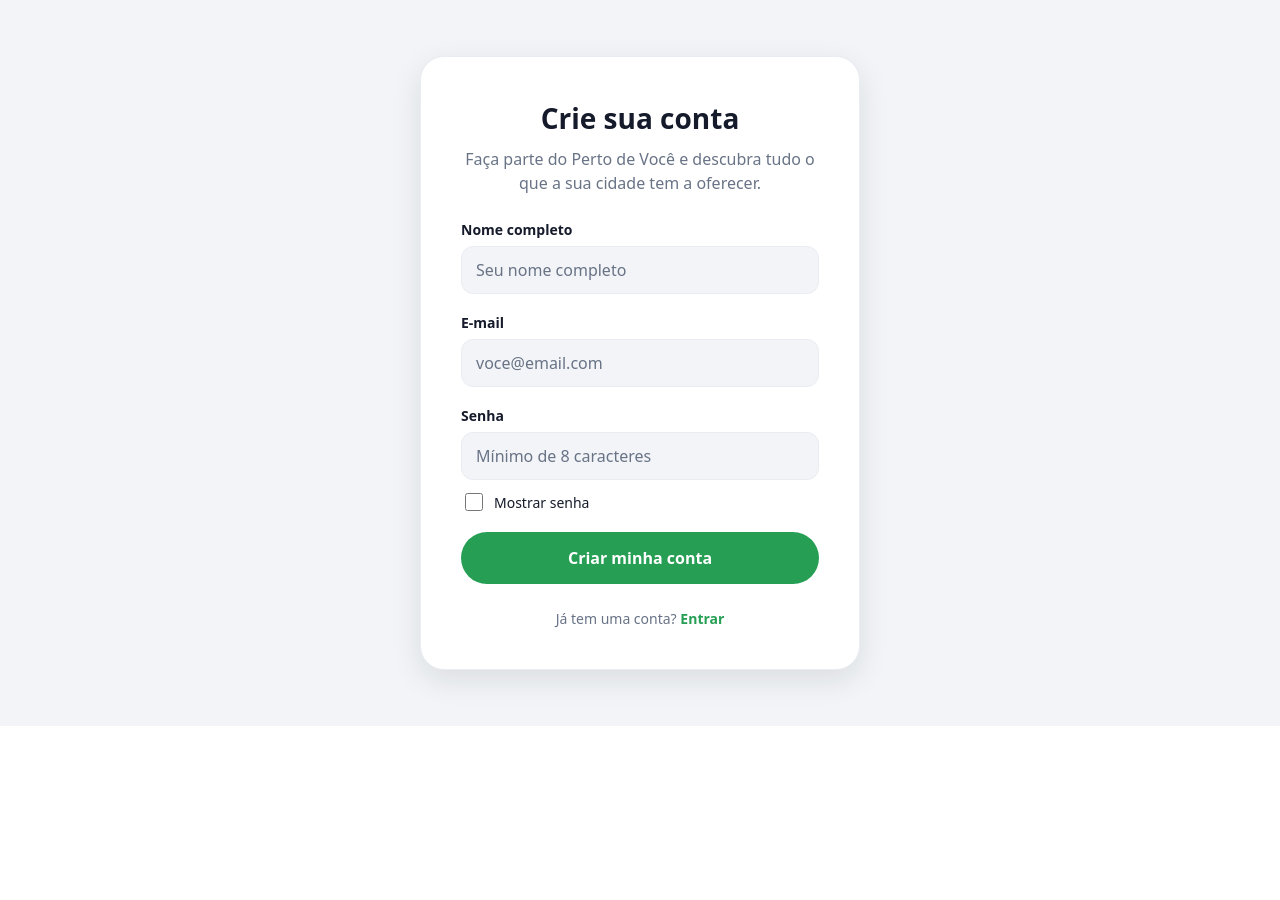
Tela de cadastrar › avisa quando o e-mail já tem conta
Type "Ana Exemplo" into the field labelled "Nome completo" at x=640, y=270, box [461, 246, 819, 294]
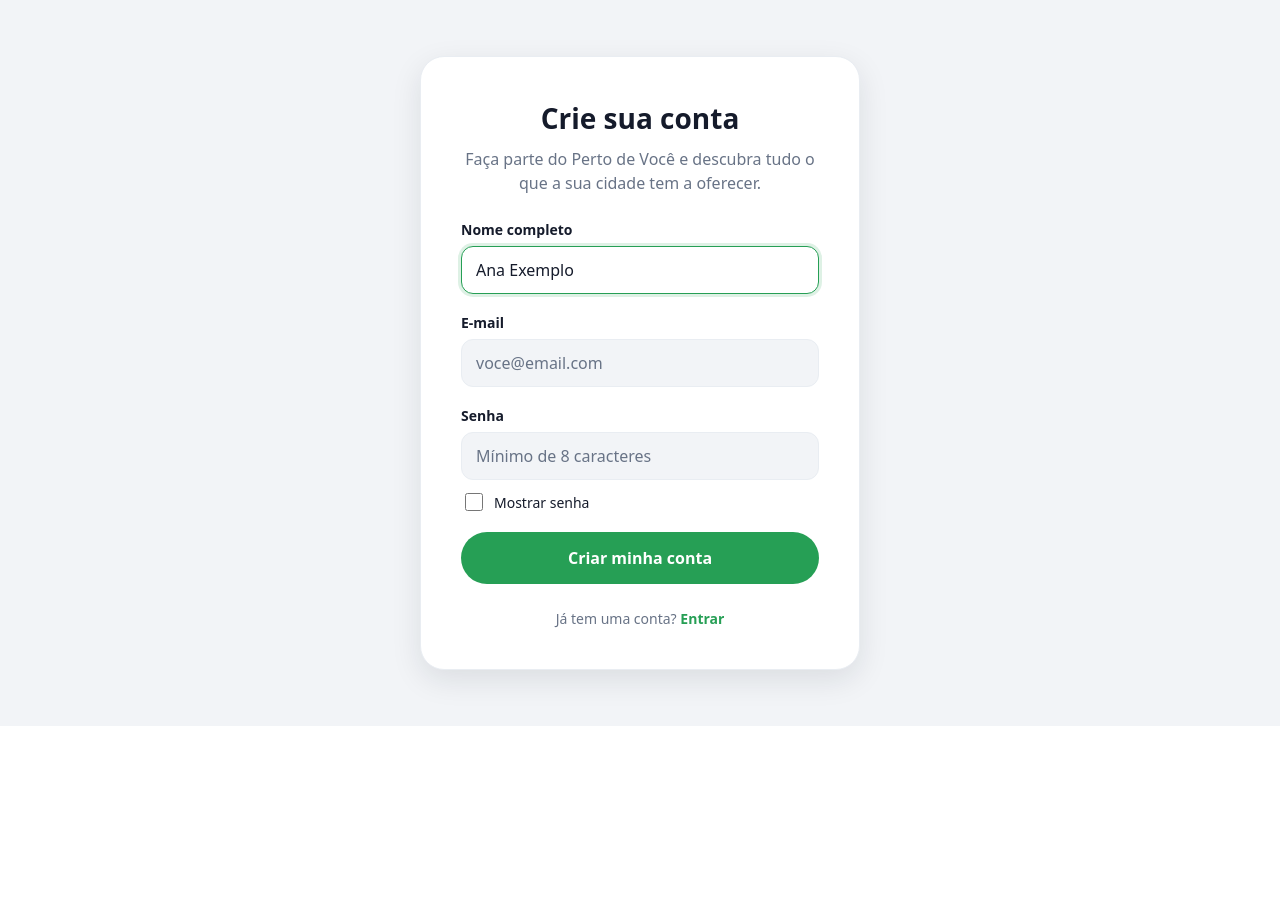
Type "ana@example.com" into the field labelled "E-mail" at x=640, y=363, box [461, 339, 819, 387]
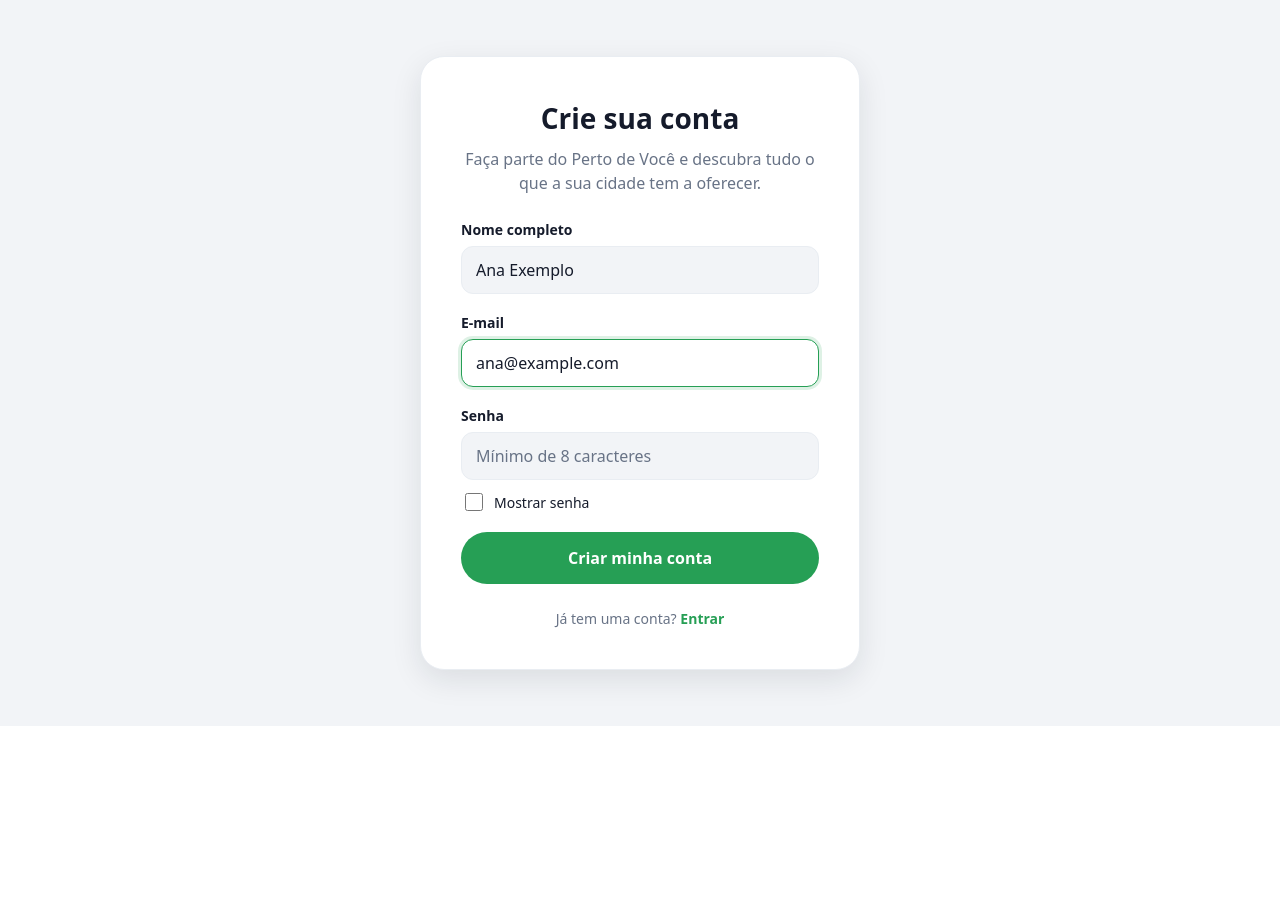
Type "senha-forte" into the password field labelled "Senha" at x=640, y=456, box [461, 432, 819, 480]
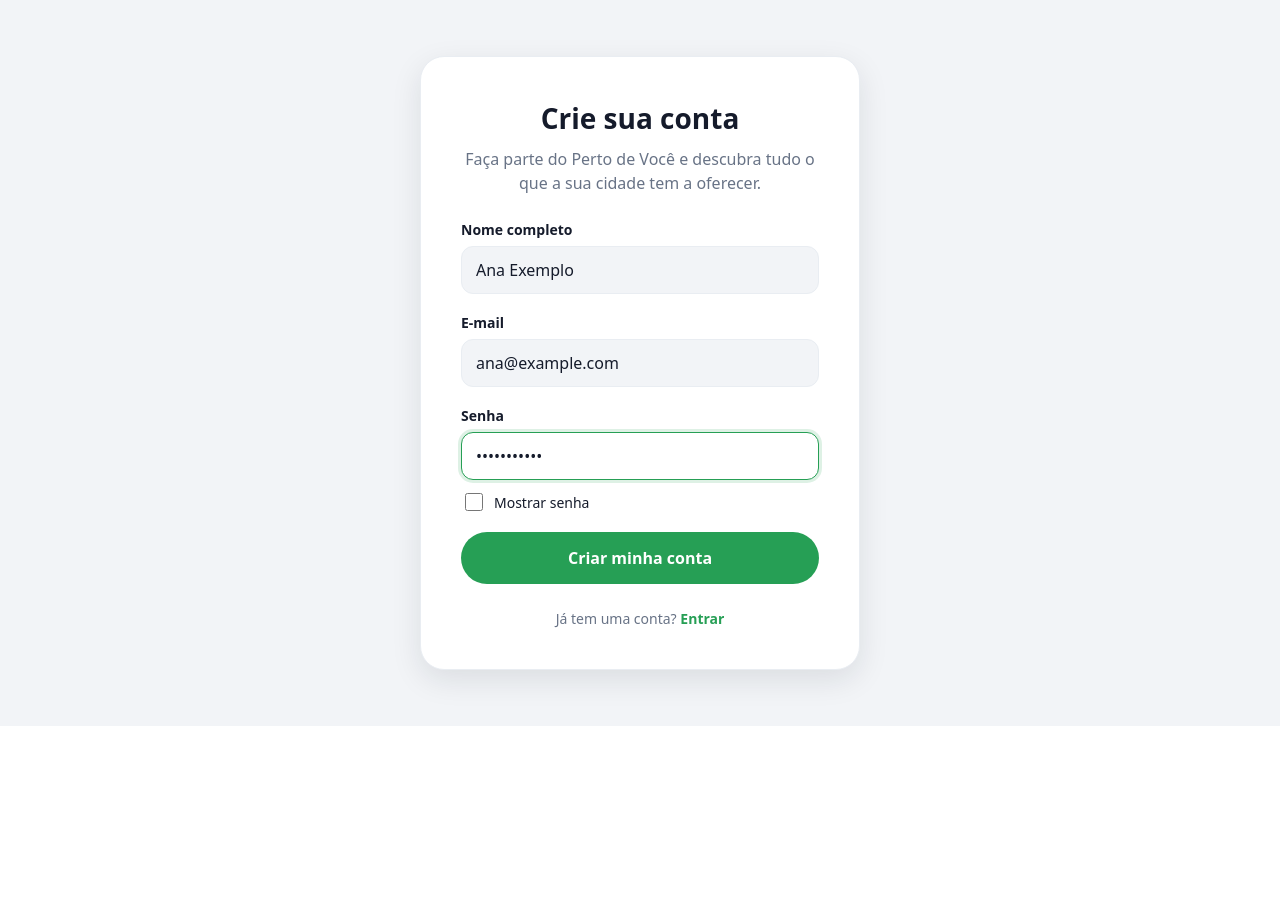
Click the button "Criar minha conta" at x=640, y=558, box [461, 532, 819, 584]
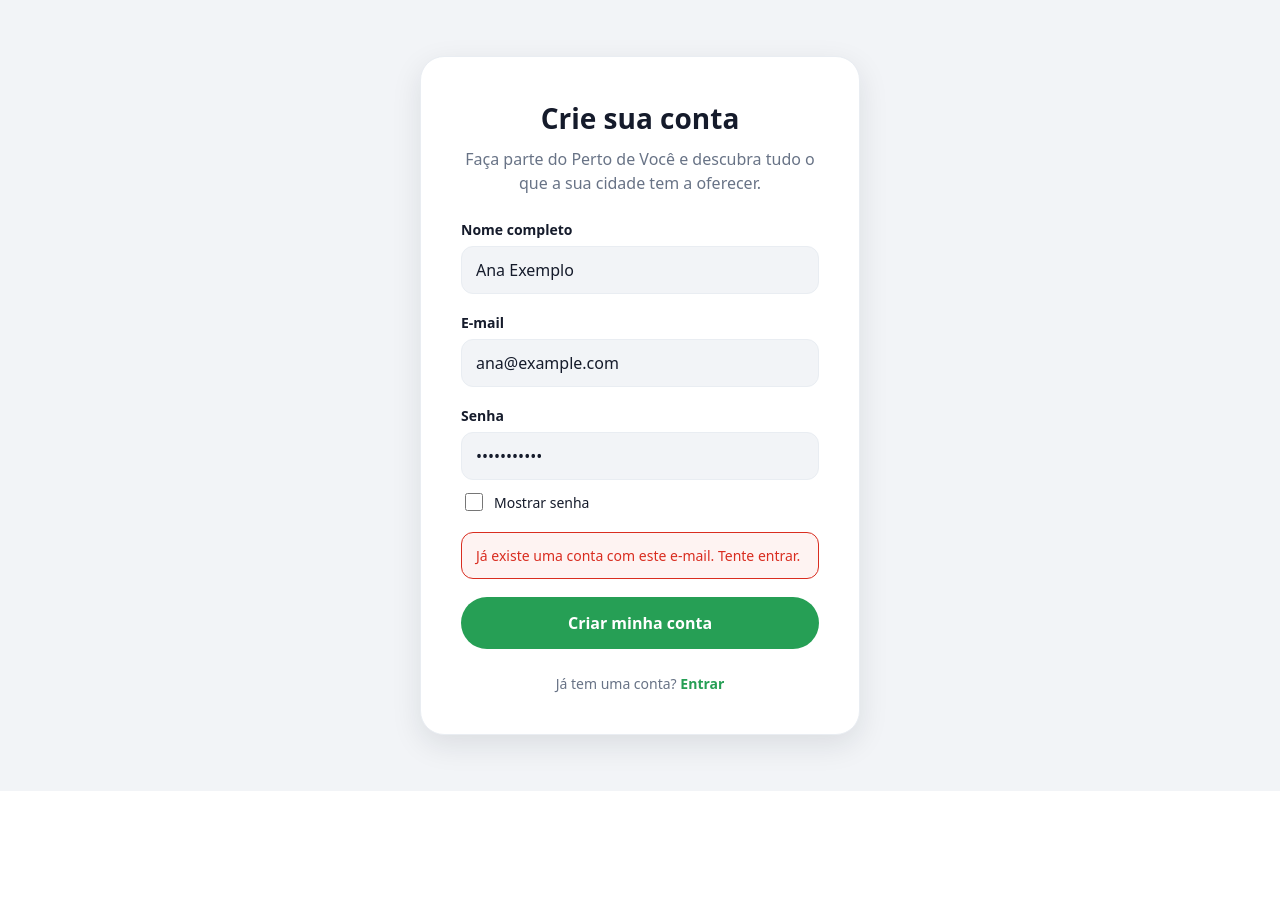
Expected: the text "Já existe uma conta com este e-mail. Tente entrar." is shown, [461, 532, 819, 579]
